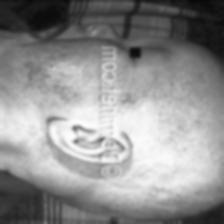Non-Cancerous Skin Condition: (0, 35, 94, 125), (124, 56, 224, 137)
